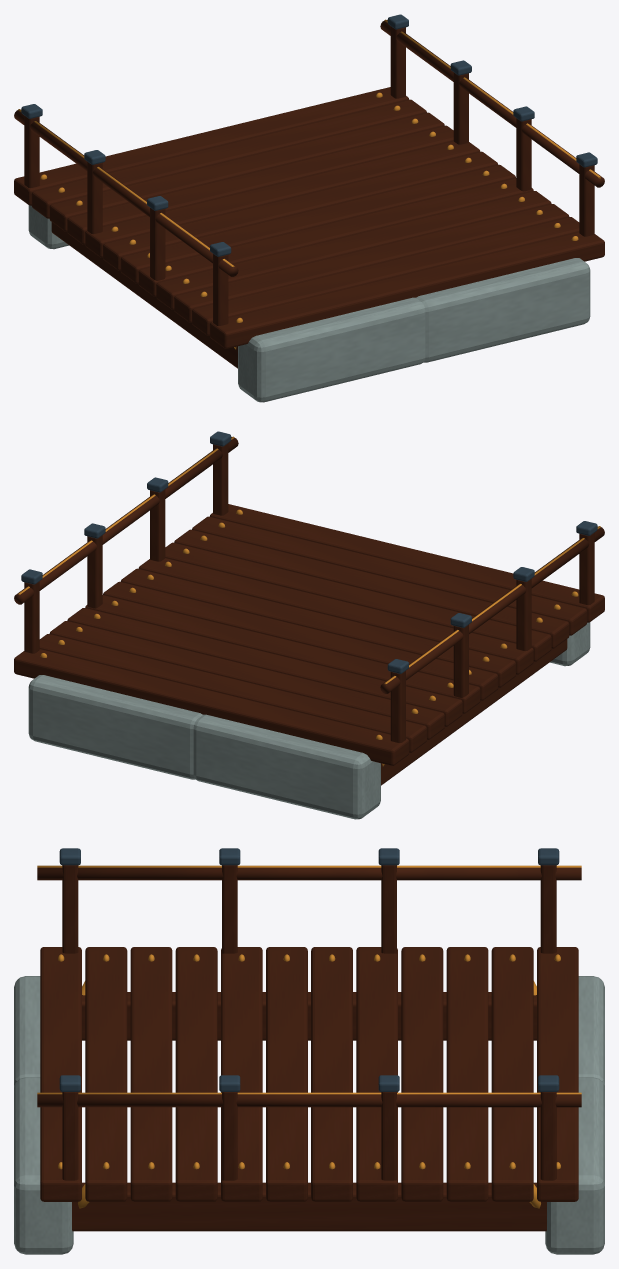
The model's file is SM_bridge.fbx.
3 renders of one model, top to bottom at view 1: azimuth 30°, elevation 25°; view 2: azimuth 150°, elevation 25°; view 3: azimuth 270°, elevation 25°, orthographic. The views are drawn at different scales.
Visible parts, largest first — view 1: SM_bridge; view 2: SM_bridge; view 3: SM_bridge.
Boxes of the visible parts, left/top/right/bottom form: SM_bridge: left=14, top=14, right=604, bottom=402; SM_bridge: left=14, top=431, right=604, bottom=819; SM_bridge: left=14, top=848, right=604, bottom=1254.
Size of the model in its own units: 4.2 by 4.45 by 1.57.
